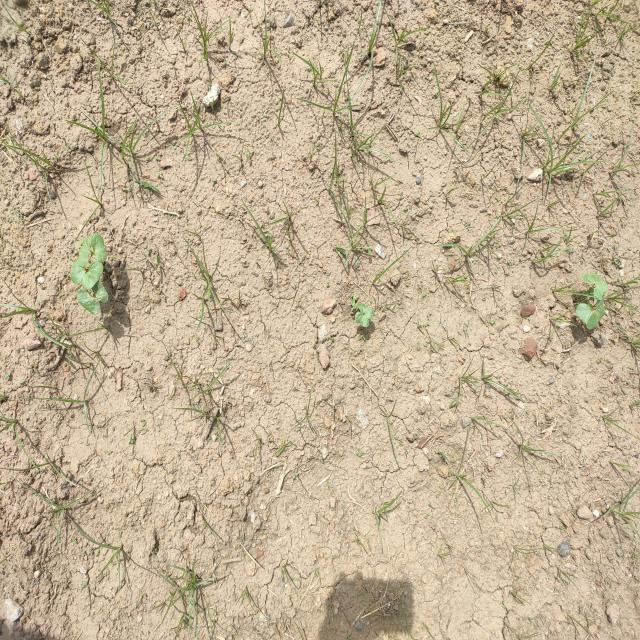seedling_s2: (82, 260, 104, 290), (77, 288, 100, 315), (576, 303, 598, 329), (70, 256, 88, 284), (90, 233, 107, 262), (92, 280, 108, 303), (79, 236, 90, 261), (594, 281, 608, 300), (359, 303, 374, 320), (596, 294, 605, 322), (581, 273, 602, 284), (355, 312, 369, 328)
